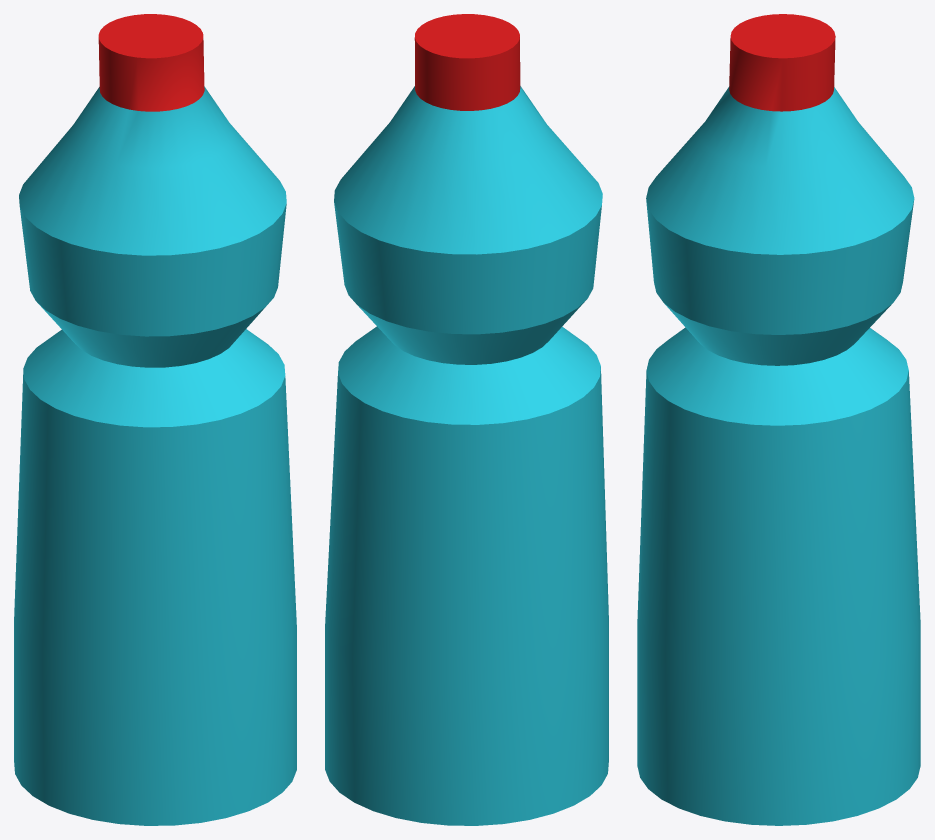
Rendered from bottle 1.fbx.
3 views of the same model, side by side, from view 1: azimuth 30°, elevation 25°; view 2: azimuth 150°, elevation 25°; view 3: azimuth 270°, elevation 25° (orthographic).
Visible parts, largest first — view 1: flasche; view 2: flasche; view 3: flasche.
Boxes of the visible parts, x1,y1,x2,y2 form: flasche: (14, 14, 296, 825); flasche: (325, 14, 608, 825); flasche: (637, 14, 920, 825).
Bounding box in the file's own units: 200 × 568 × 200.
